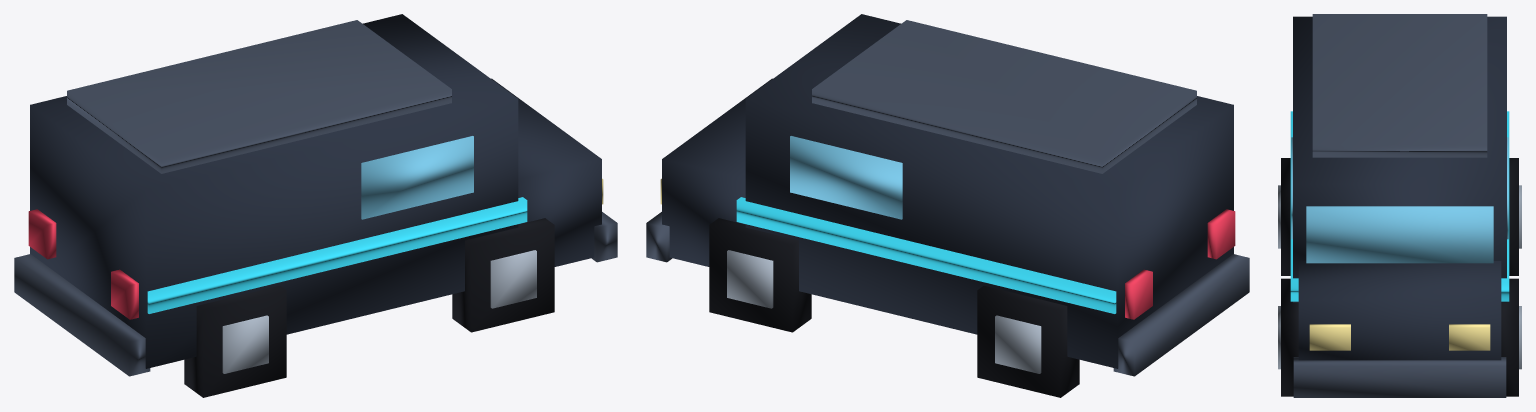
File: getaway_van.obj
The picture shows the model from 3 angles, left to right: view 1: azimuth 30°, elevation 25°; view 2: azimuth 150°, elevation 25°; view 3: azimuth 270°, elevation 25°; orthographic projection. The views are drawn at different scales.
Size of the model in its own units: 3.28 by 1.48 by 1.54.
1 material, 1 textured.
